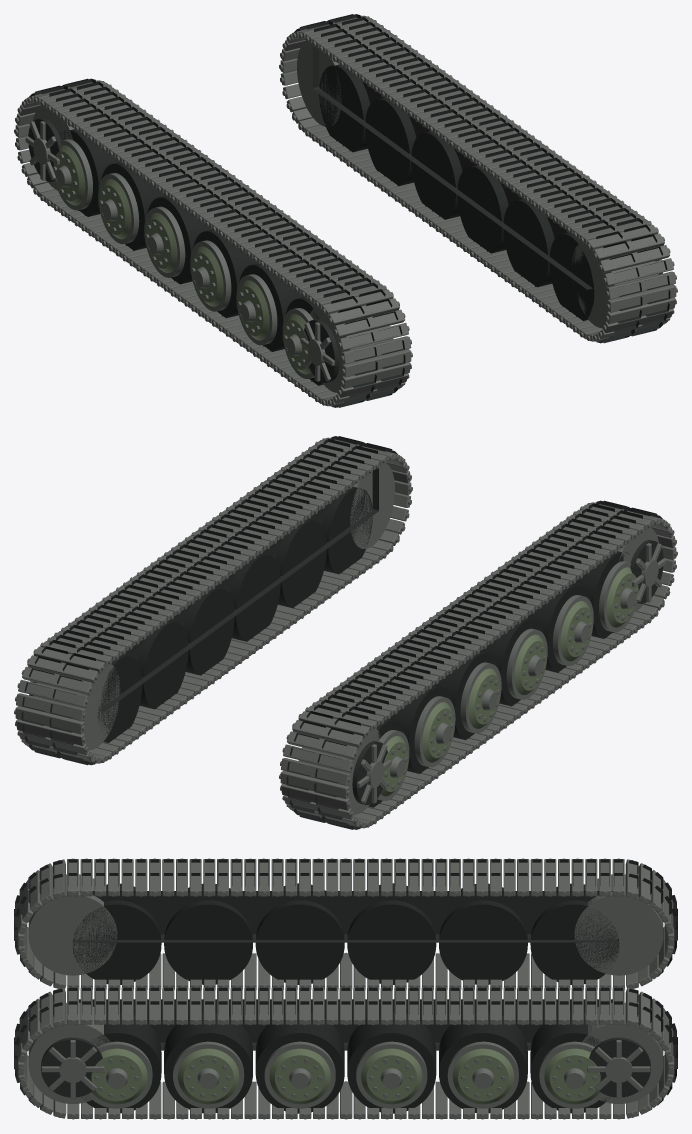
File: tracks_1_6.glb
3 views of the same model, one above another, from view 1: azimuth 30°, elevation 25°; view 2: azimuth 150°, elevation 25°; view 3: azimuth 270°, elevation 25° (orthographic).
Visible parts, largest first — view 1: tracks.009; view 2: tracks.009; view 3: tracks.009.
Boxes of the visible parts, bbox=[...] form: tracks.009: bbox=[14, 14, 677, 407]; tracks.009: bbox=[14, 436, 677, 829]; tracks.009: bbox=[14, 858, 677, 1119].
Bounding box in the file's own units: 3.91 × 1.18 × 6.64.
